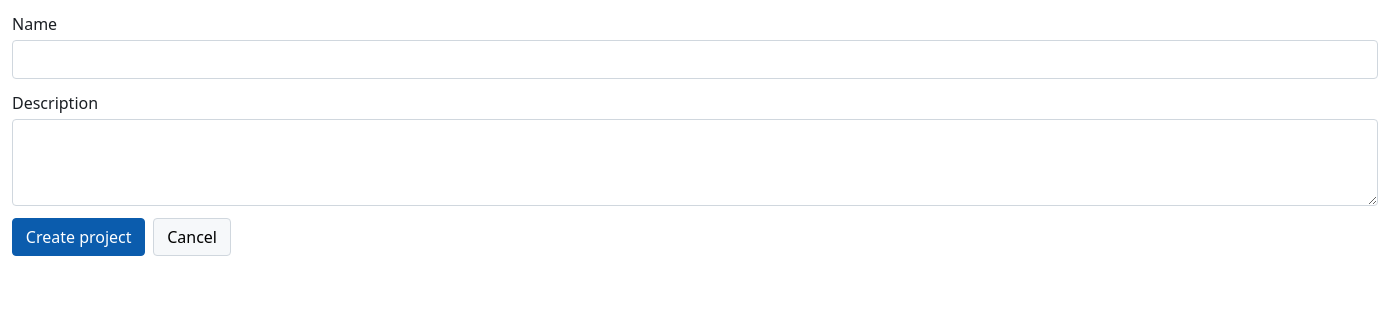
Scenario: a client-side rejection › ProjectForm announces the field and focuses it
What coordinates should you click on to do the following:
click the button "Create project"
I would click on:
 (79, 237)
Its box is [12,218,145,256].
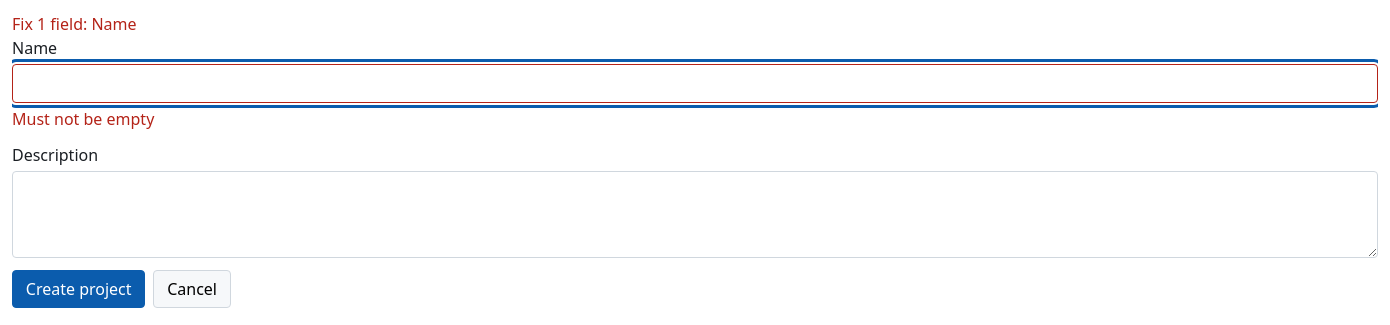
Result: the message reads "Fix 1 field: Name" at [12,13,137,35]
